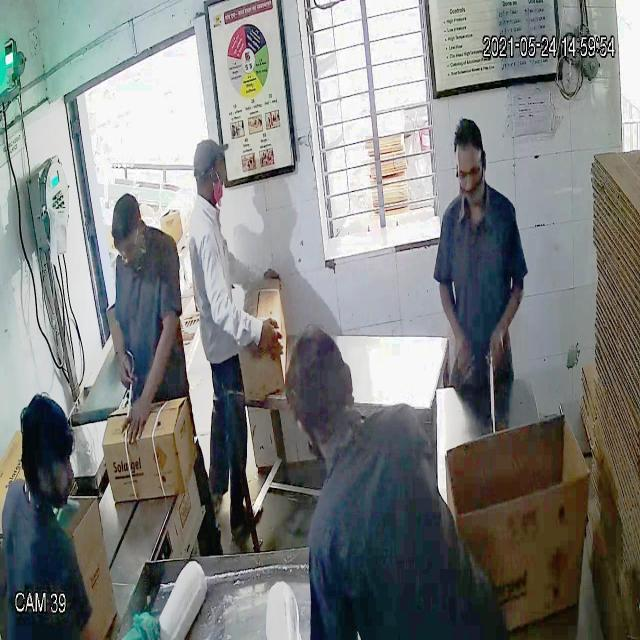glasses: (111, 237, 145, 263), (455, 156, 485, 184)
